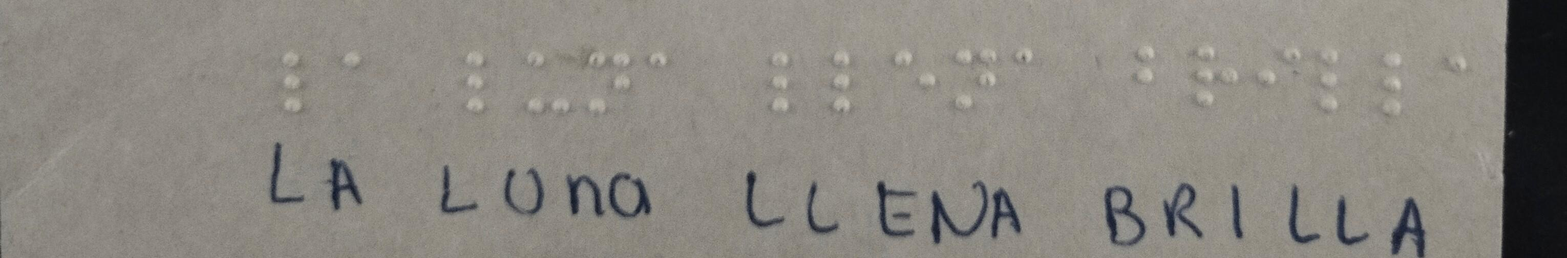a: (1413, 29, 1480, 101), (317, 34, 381, 87), (999, 36, 1050, 77), (640, 38, 678, 85)
b: (1125, 36, 1166, 97)
e: (886, 44, 939, 107)
i: (1246, 36, 1302, 108)
l: (1357, 31, 1413, 125), (266, 38, 321, 125), (749, 31, 801, 123), (1306, 34, 1355, 125), (821, 39, 871, 128), (454, 44, 495, 133)
n: (577, 39, 640, 119), (947, 39, 1000, 121)
r: (1185, 36, 1241, 123)
u: (505, 41, 574, 125)
